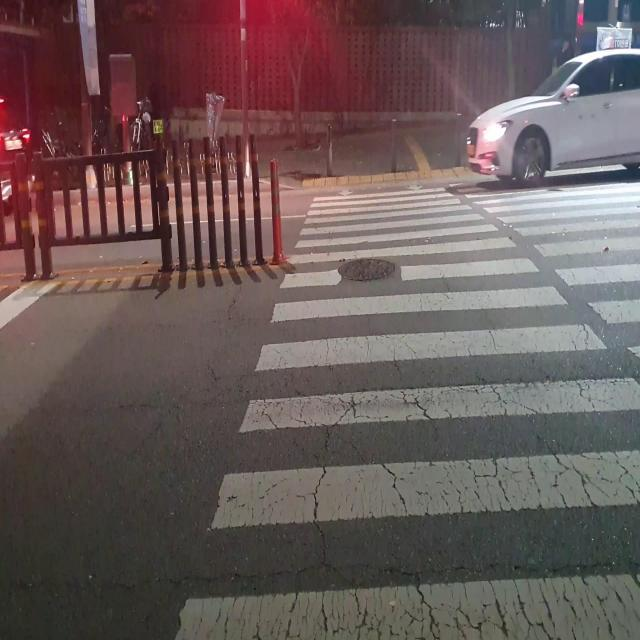crosswalk: (176, 157, 640, 640)
